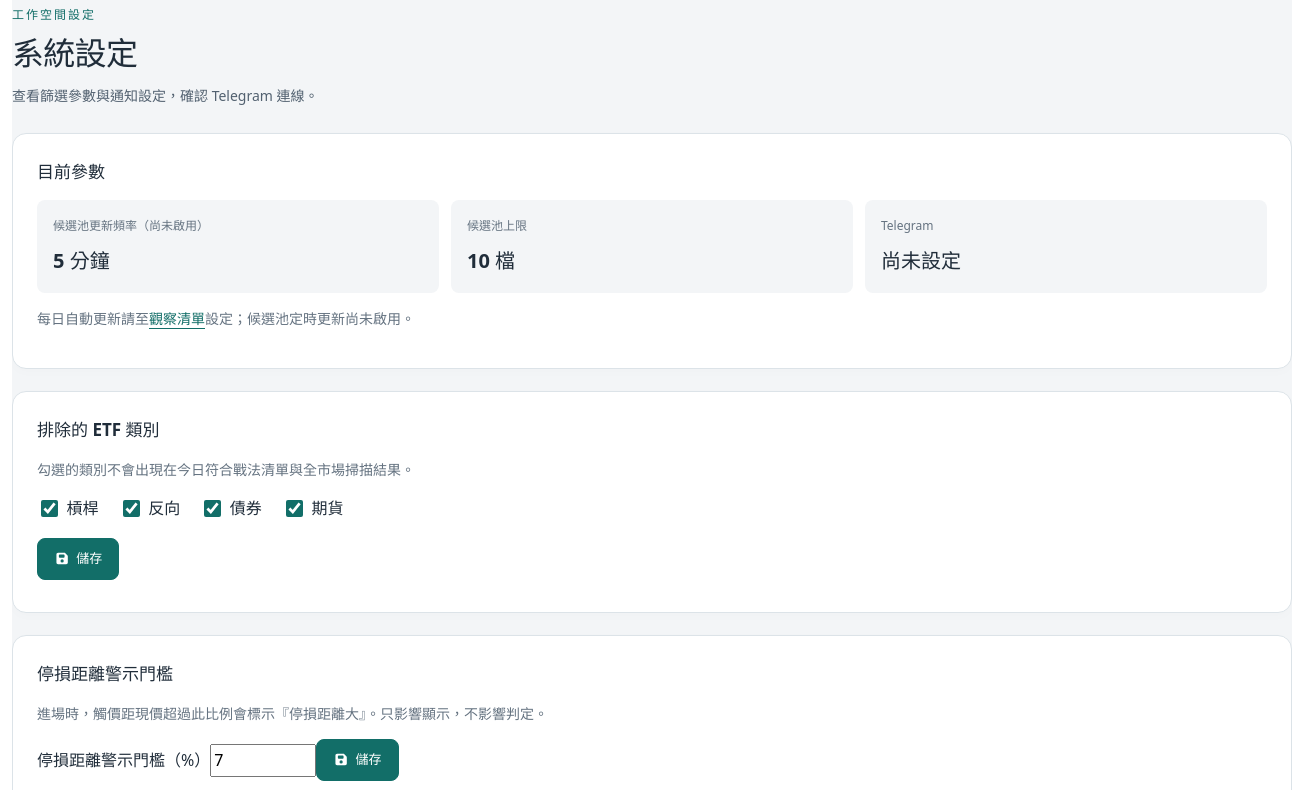
讀取排除類別、切換勾選並儲存
The image size is (1292, 790).
Check: the checkbox labelled "期貨" is checked, box [286,500,303,517]
Click the checkbox labelled "槓桿": point(50, 508) [41,500,58,517]
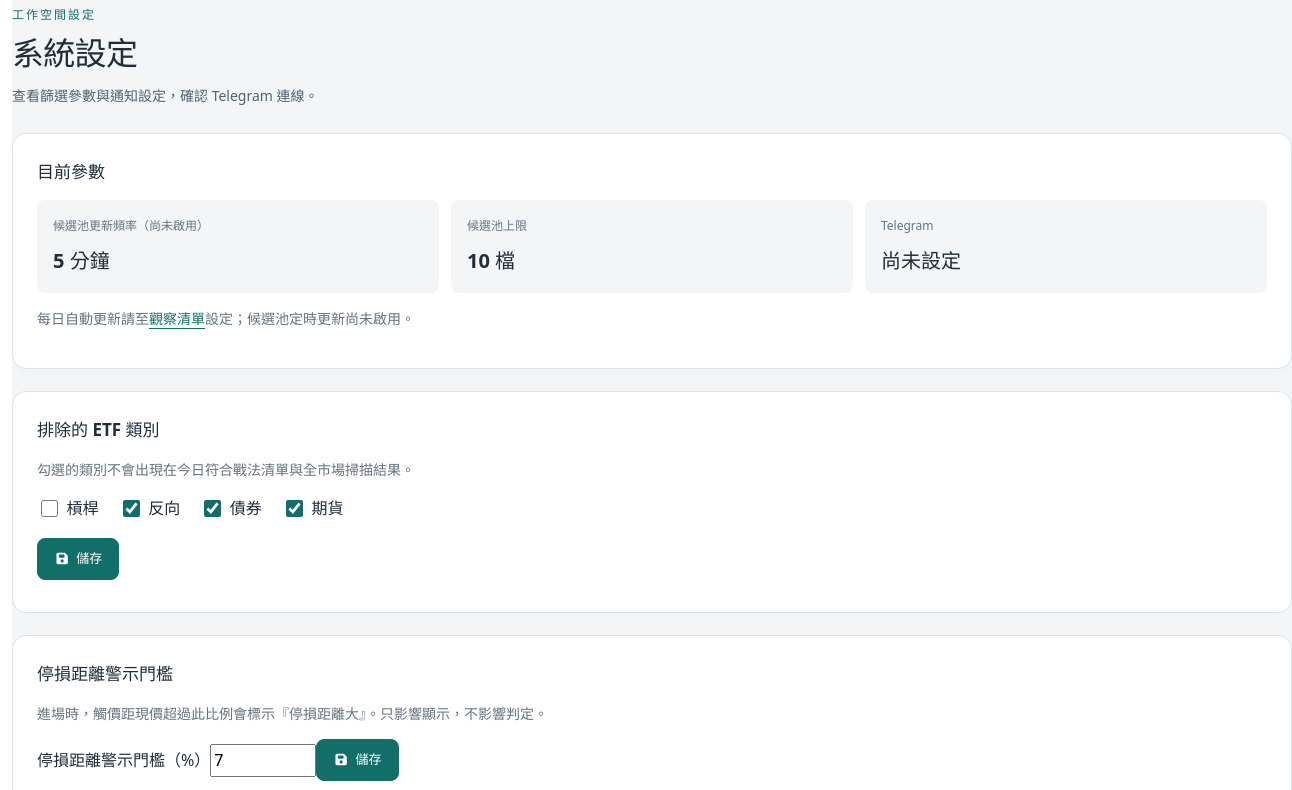
Click the checkbox labelled "反向": point(131, 508) [123,500,140,517]
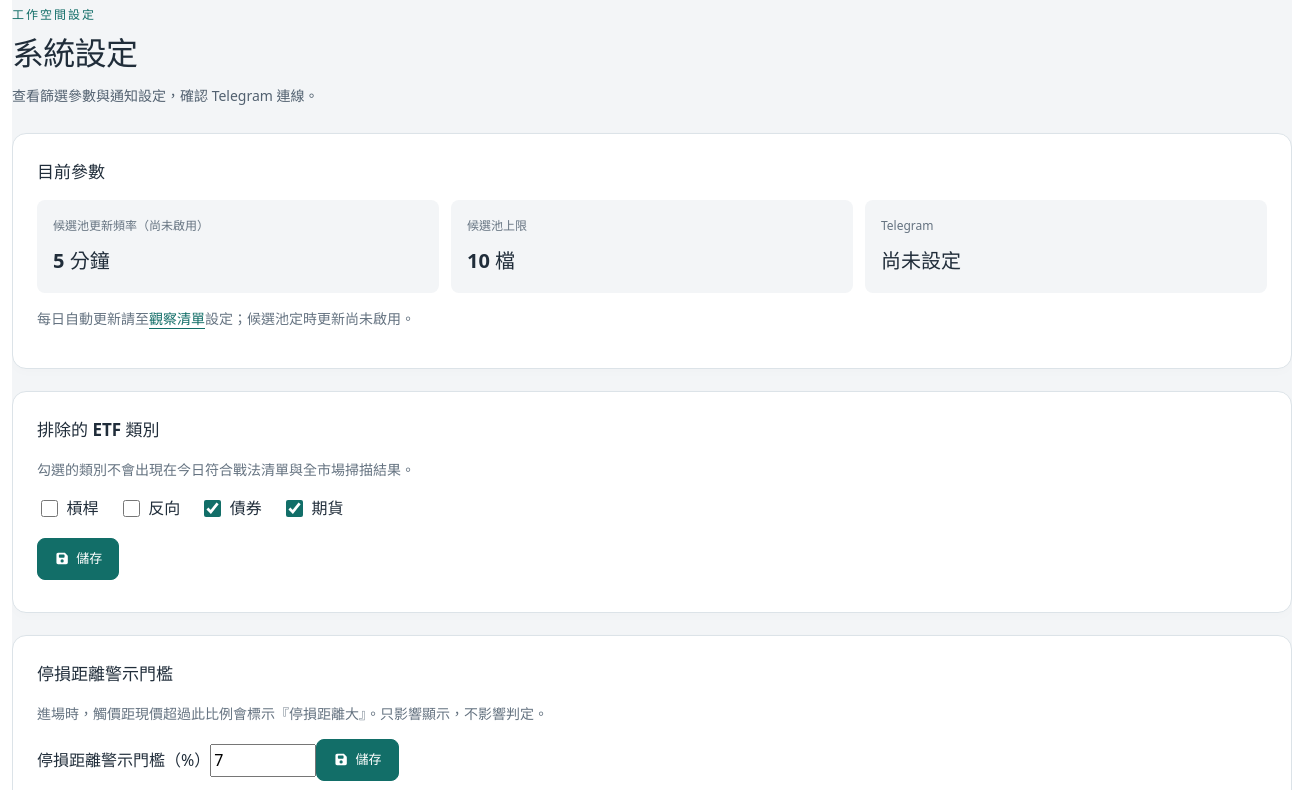
Click the checkbox labelled "債券": point(213, 508) [204,500,221,517]
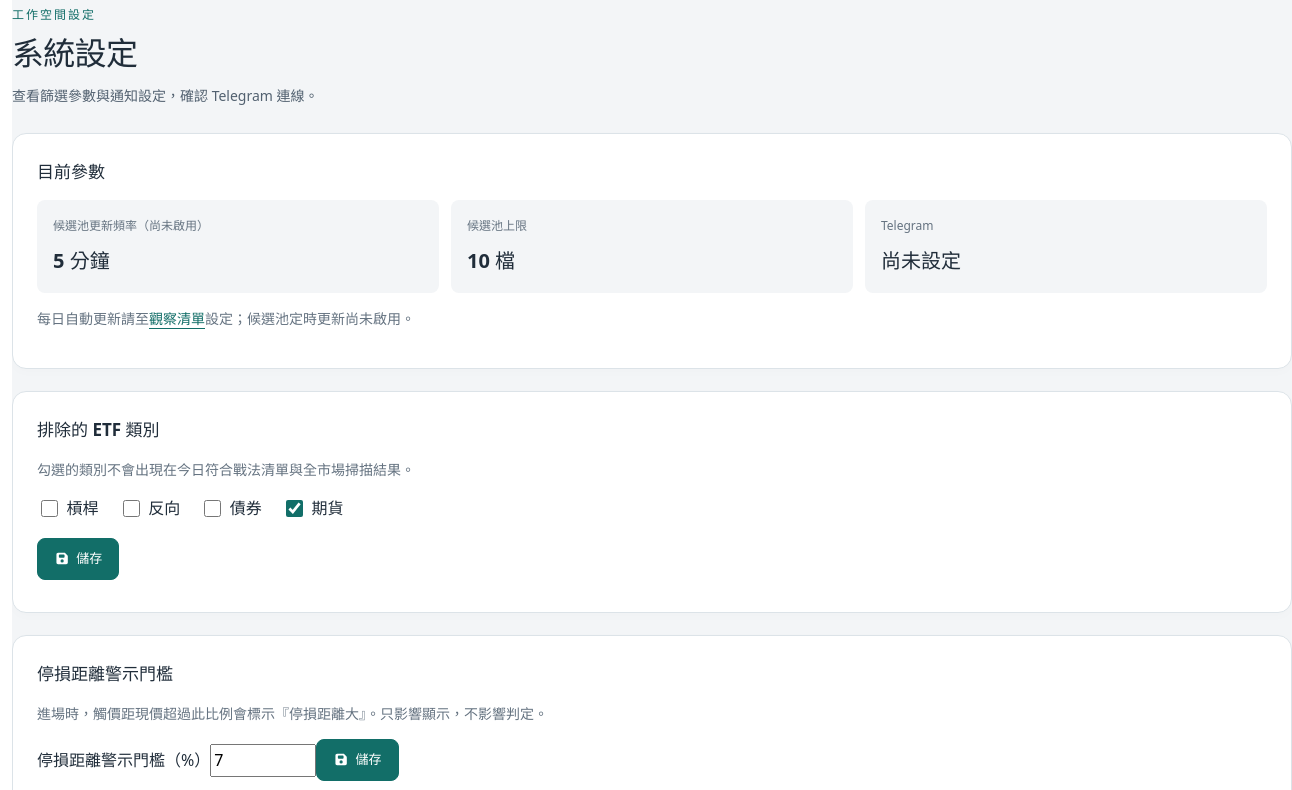
Click the button "儲存" below "槓桿": point(78, 559) [37,538,119,580]
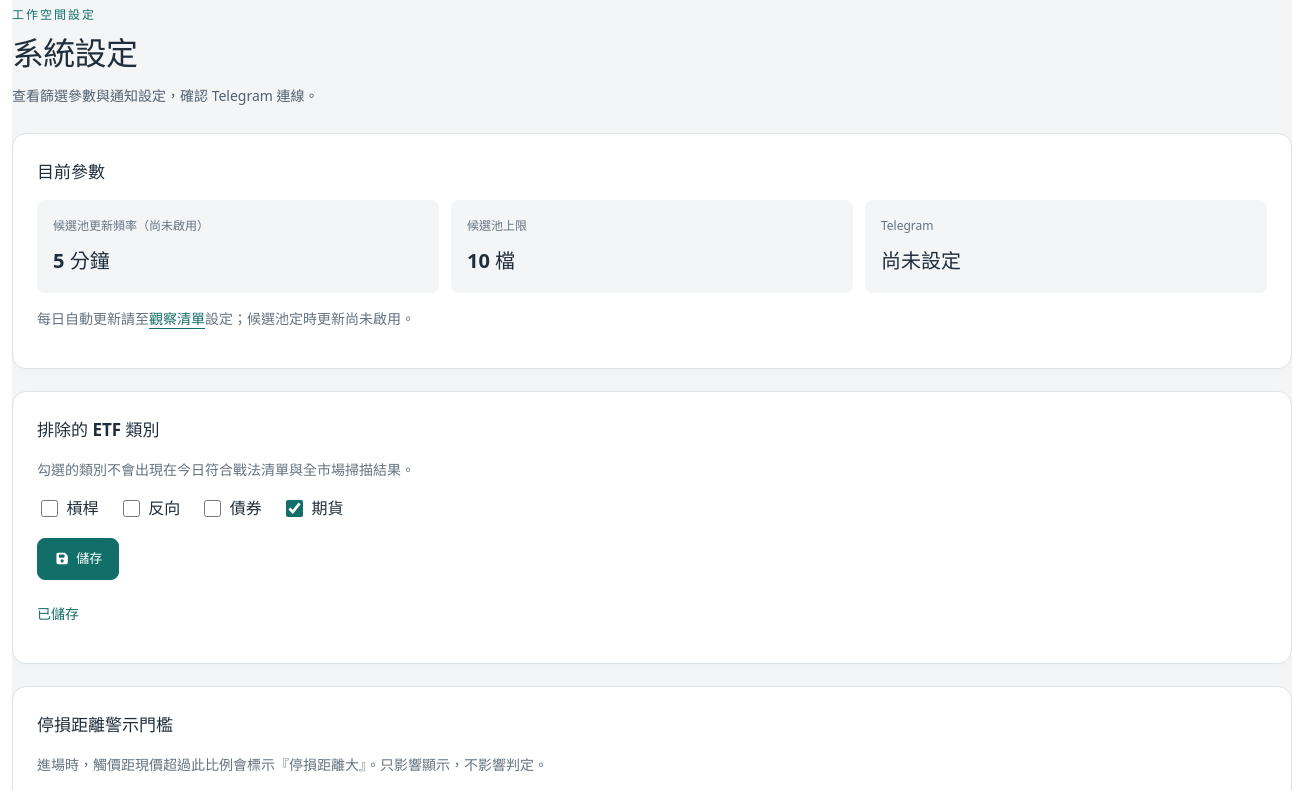
Check: the text "已儲存" is shown, box [37,604,79,623]
Click the checkbox labelled "期貨": point(294, 508) [286,500,303,517]
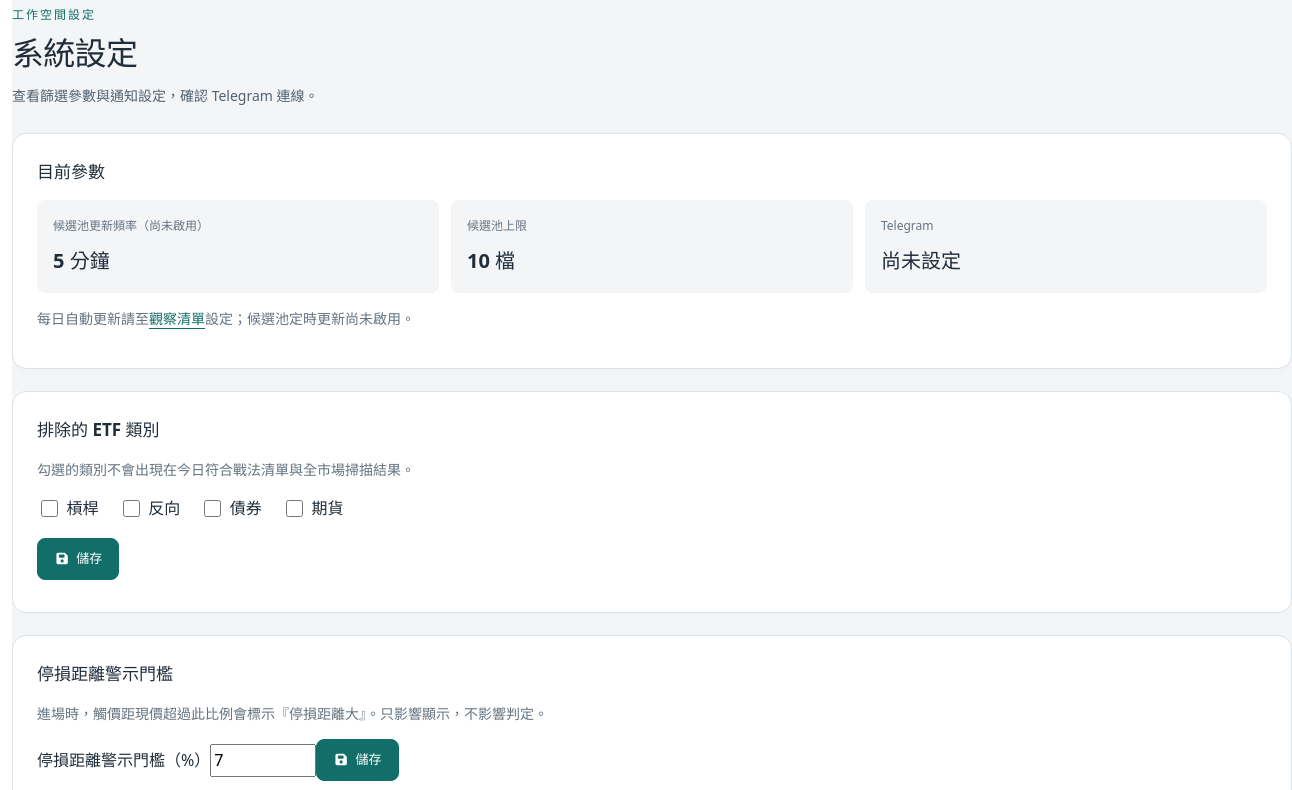
Check: the text "已儲存" is gone
Click the button "儲存" below "槓桿": point(78, 559) [37,538,119,580]
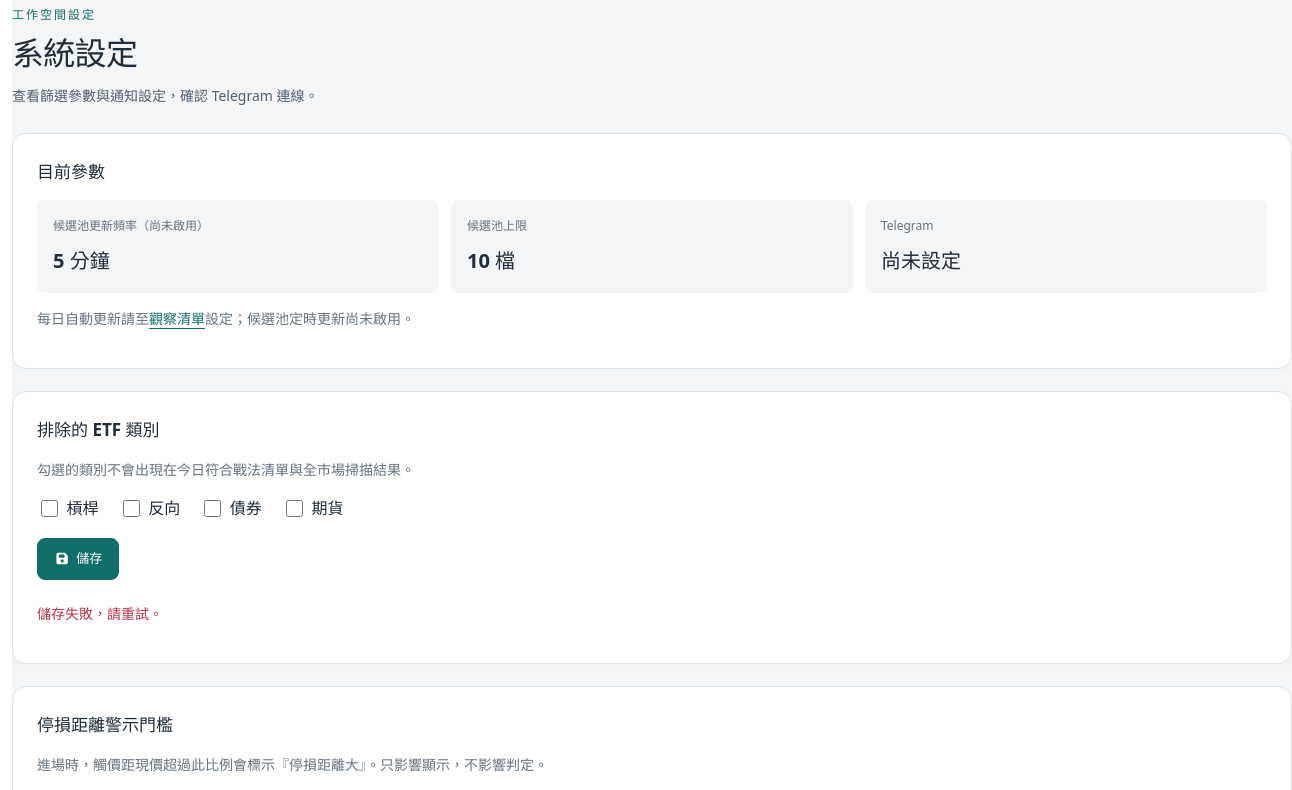
Check: the message "儲存失敗，請重試。" is shown, box [37,604,163,623]
